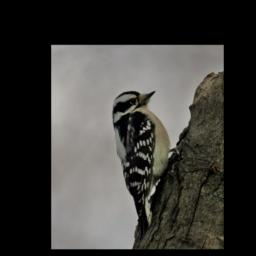Woodpecker: (110, 87, 190, 244)
